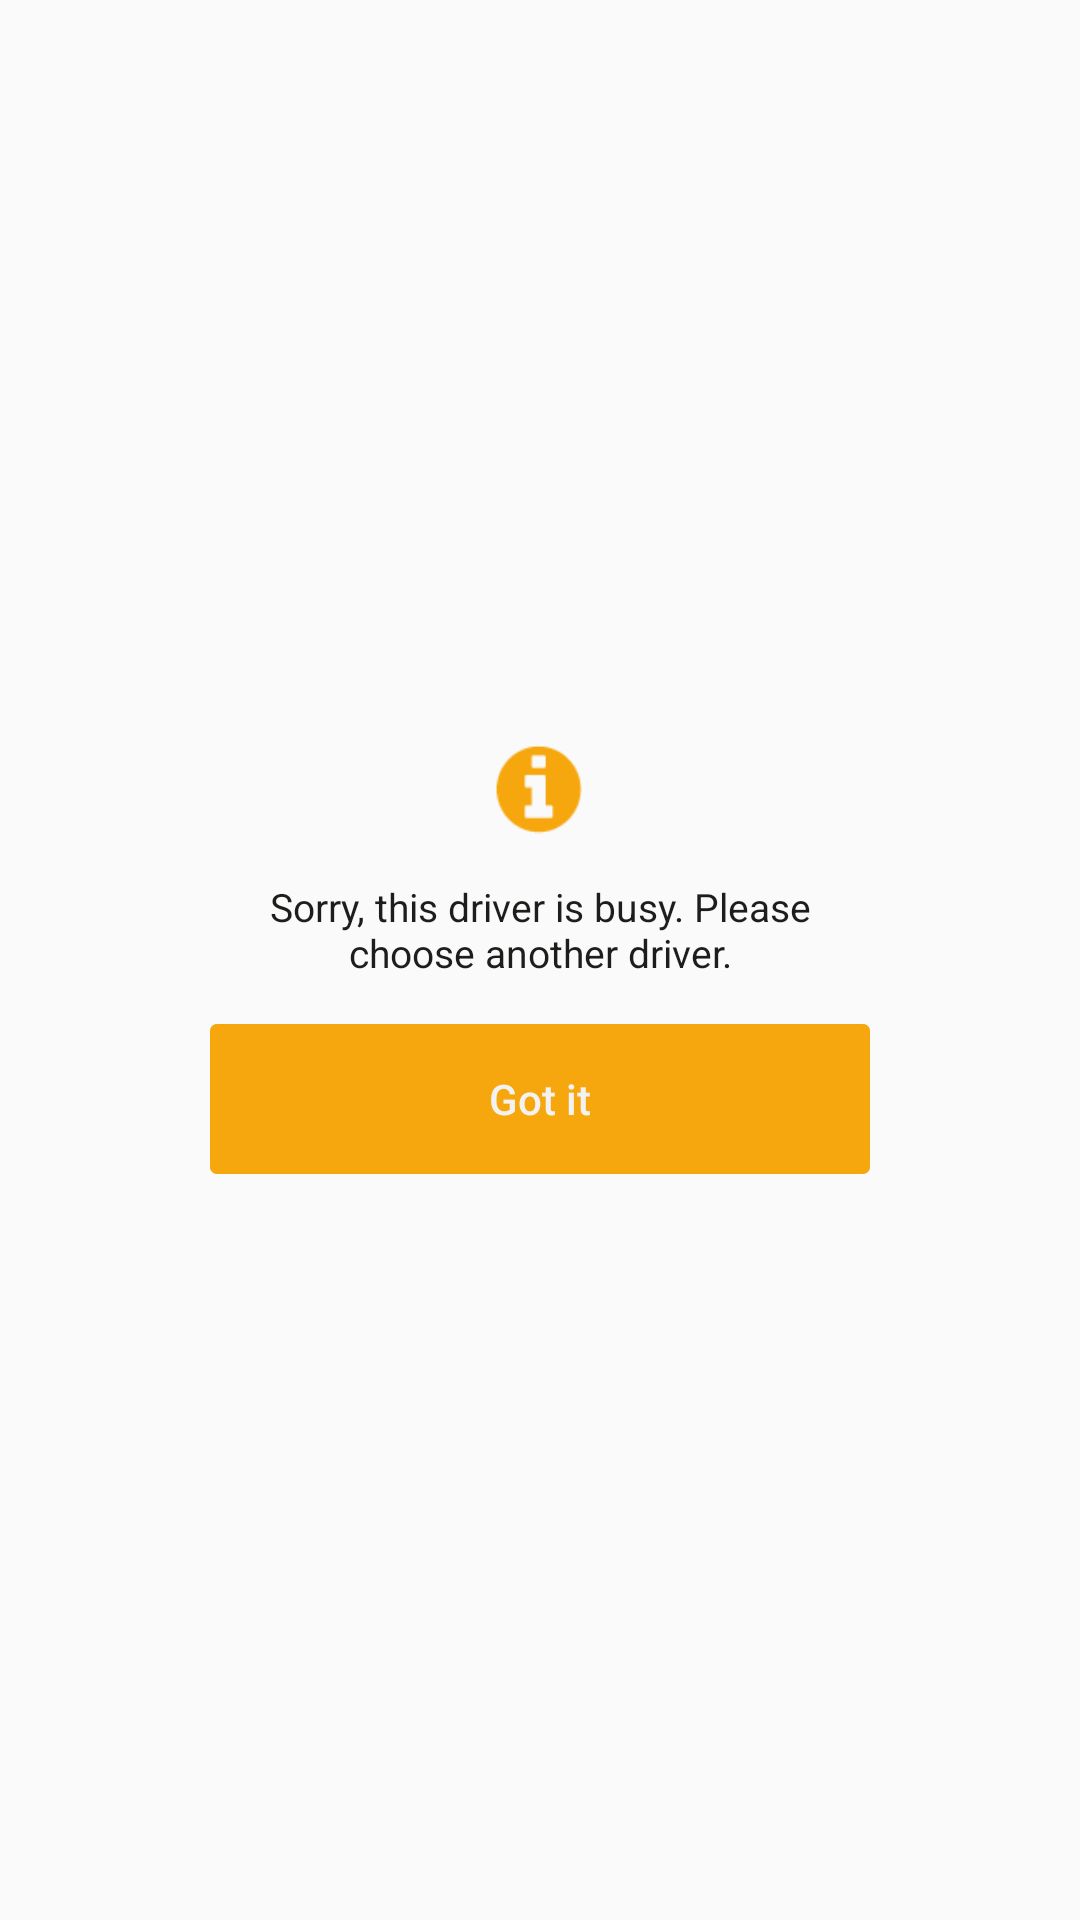

Screen size 1080x1920. Icon name, then its center in pixels as [x,y]:
info: [539,789]
